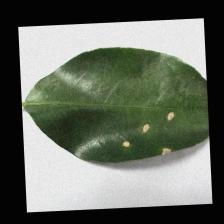canker: (96, 101, 184, 161)
